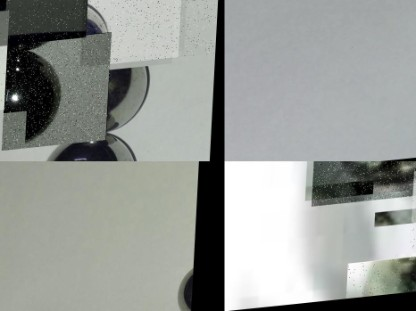ironball: (3, 37, 112, 153), (81, 0, 183, 72), (0, 0, 91, 49), (173, 0, 220, 65), (348, 259, 415, 304)
